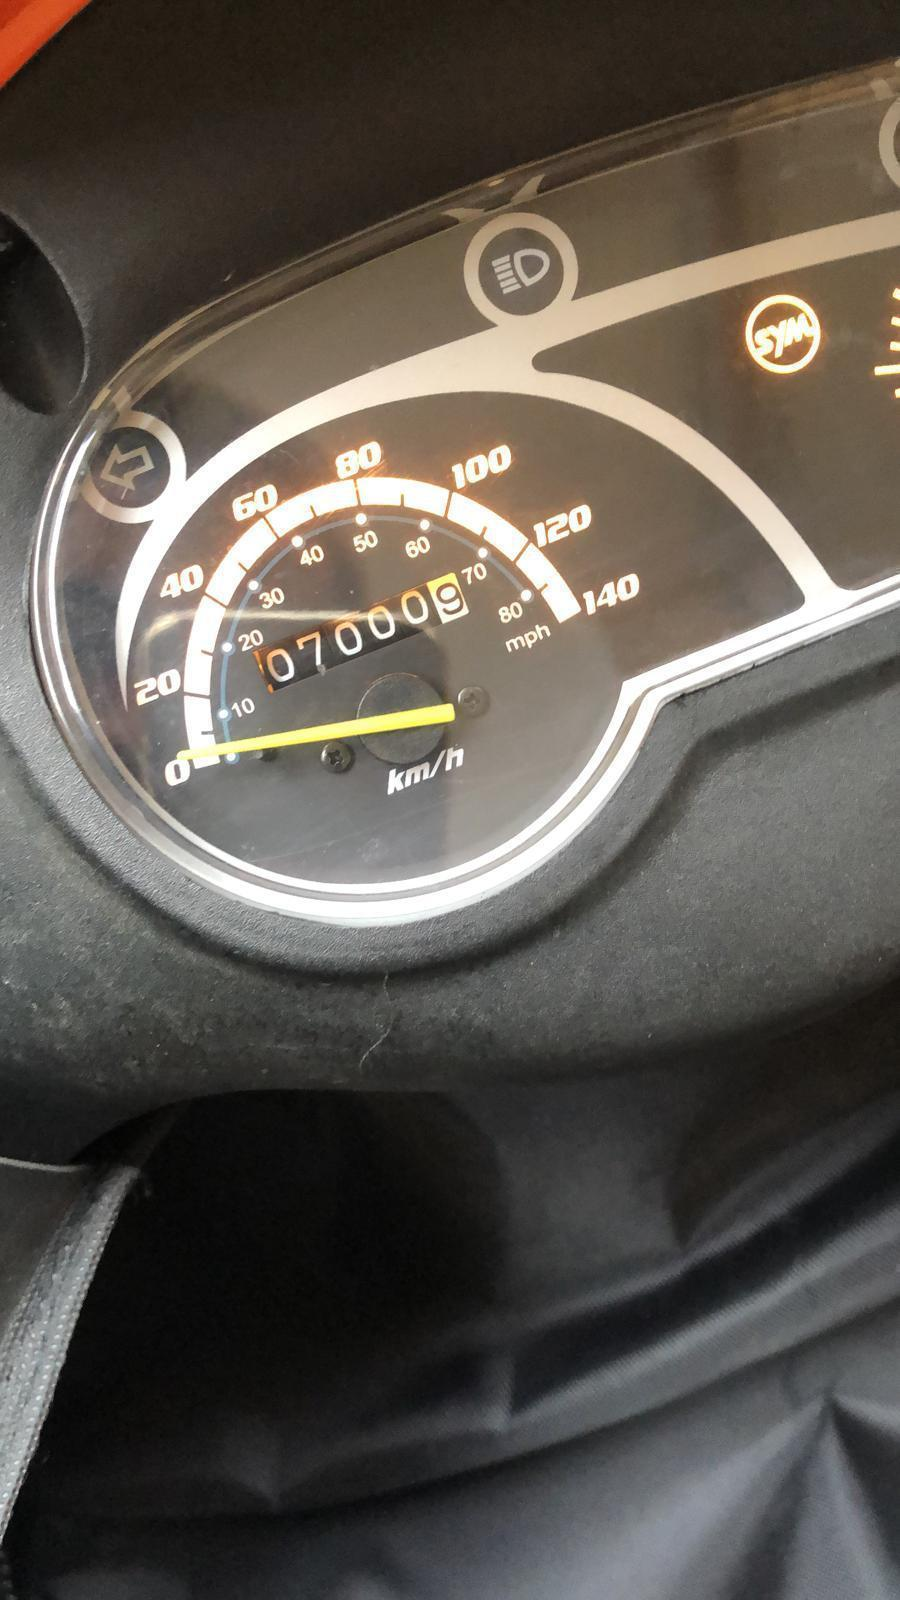0: (331, 618, 363, 658), (367, 602, 398, 644), (264, 646, 297, 684), (399, 589, 429, 626), (270, 585, 284, 605), (248, 627, 263, 646)
3: (257, 590, 273, 609)
7: (293, 630, 326, 670), (460, 565, 474, 586)
9: (434, 580, 465, 619)
odometer: (249, 570, 475, 696)
